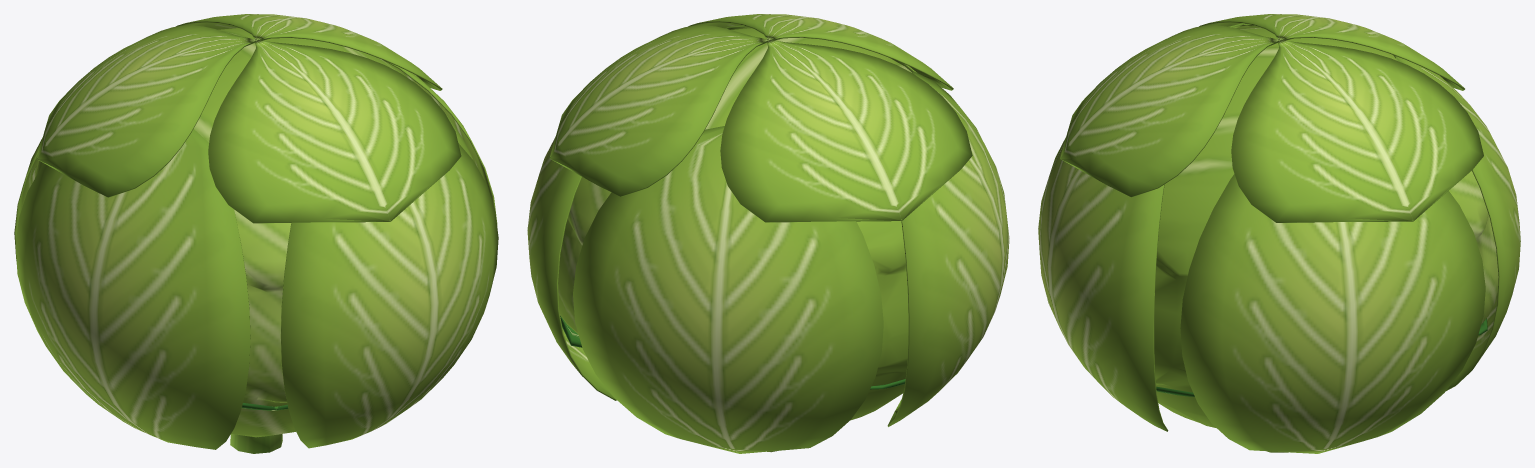
The model's file is NP_Cabbage_Harvest.fbx.
3 renders of one model, left to right at view 1: azimuth 30°, elevation 25°; view 2: azimuth 150°, elevation 25°; view 3: azimuth 270°, elevation 25°, orthographic.
Visible parts, largest first — view 1: NP_Cabbage_Harvest; view 2: NP_Cabbage_Harvest; view 3: NP_Cabbage_Harvest.
Part boxes in pixels (x1,y1,x2,y2): NP_Cabbage_Harvest: [14, 14, 498, 453]; NP_Cabbage_Harvest: [527, 14, 1009, 453]; NP_Cabbage_Harvest: [1038, 14, 1520, 453].
Size of the model in its own units: 59.24 by 54.43 by 59.24.
